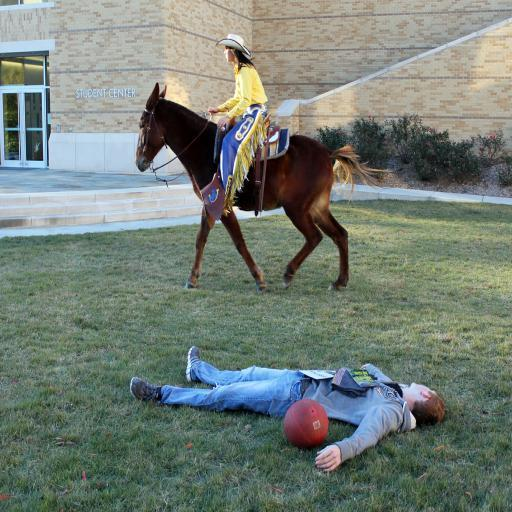horse: (135, 83, 392, 292)
